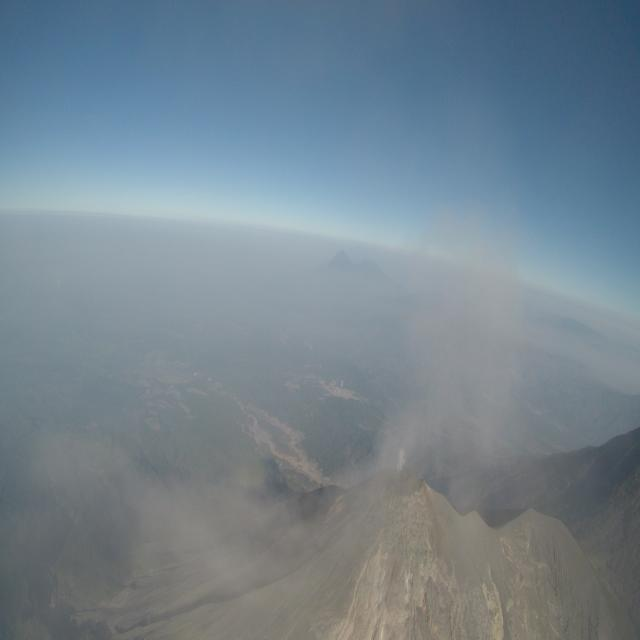Plume: (394, 446, 406, 474)
Summit: (341, 462, 463, 536)
